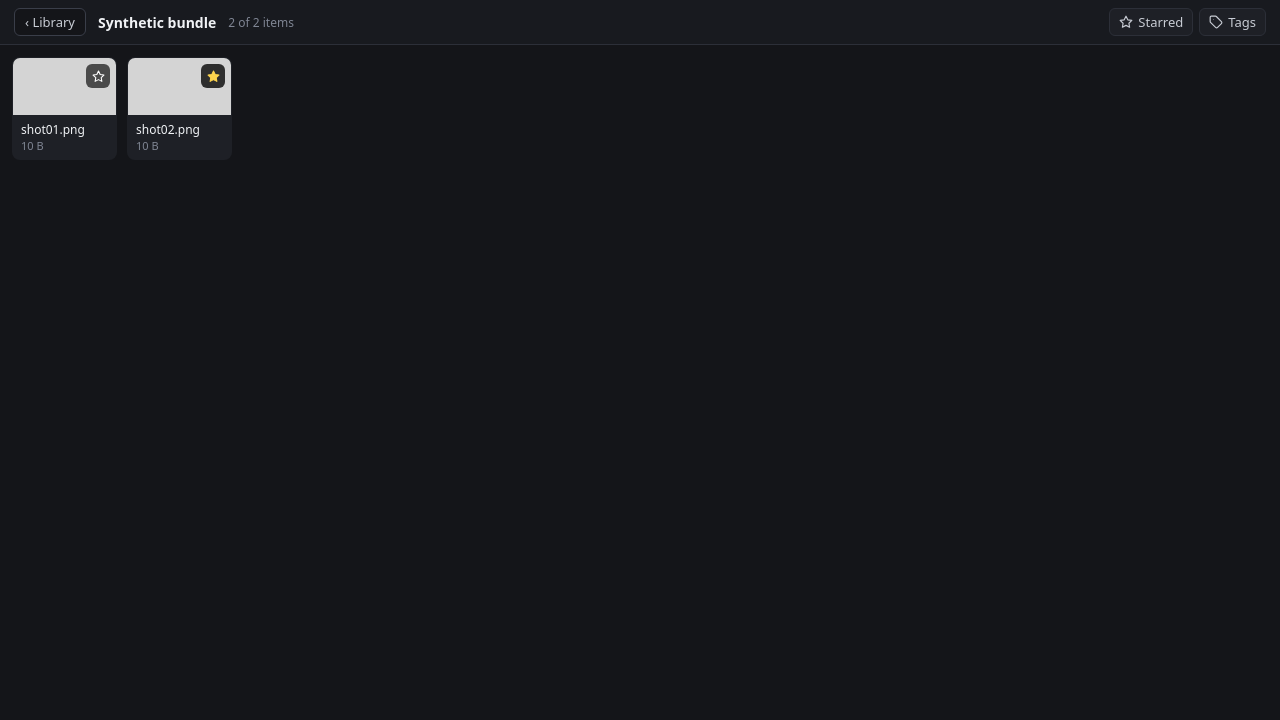
Test: in-album tag filter surfaces ancestor tags from catalog navigation hierarchy
This screenshot has width=1280, height=720.
Expected: the text "shot01.png" is shown, x1=21 y1=121 x2=85 y2=138
Click the button with aria-label "Filter bundle by tags": coordinates (1233, 22) x1=1199 y1=8 x2=1266 y2=36
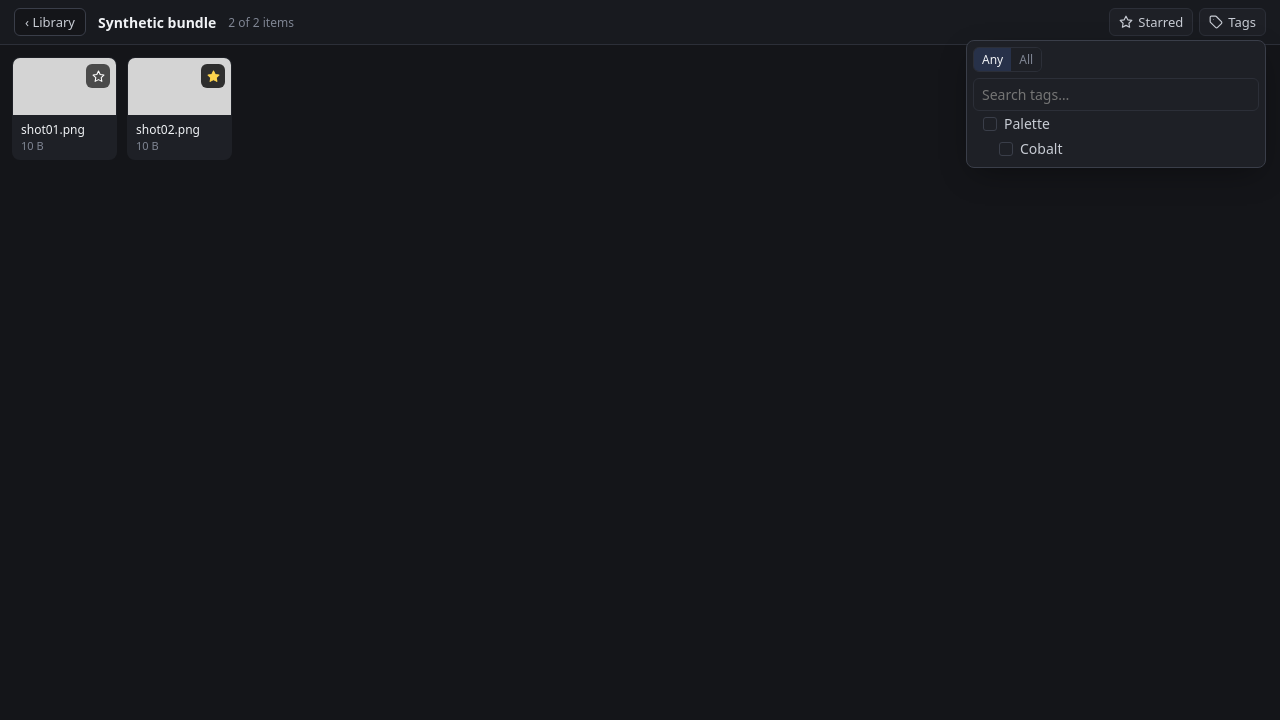
Result: the checkbox labelled "Palette" is shown at x1=973 y1=111 x2=1259 y2=136
Result: the checkbox labelled "Cobalt" is shown at x1=973 y1=136 x2=1259 y2=161
